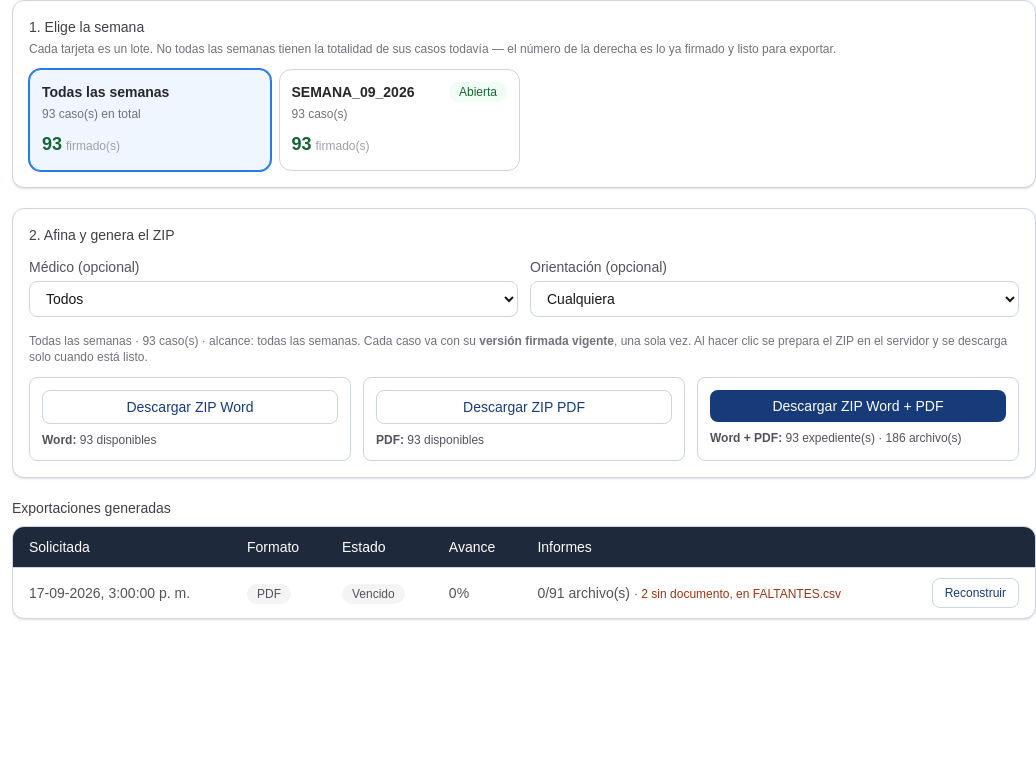
Scenario: Exportaciones · formato mixto, drift y reconstrucción › una exportación VENCIDA se puede reconstruir, y lo dice
Click the button "Reconstruir".
click(975, 593)  # box [932,578,1019,608]
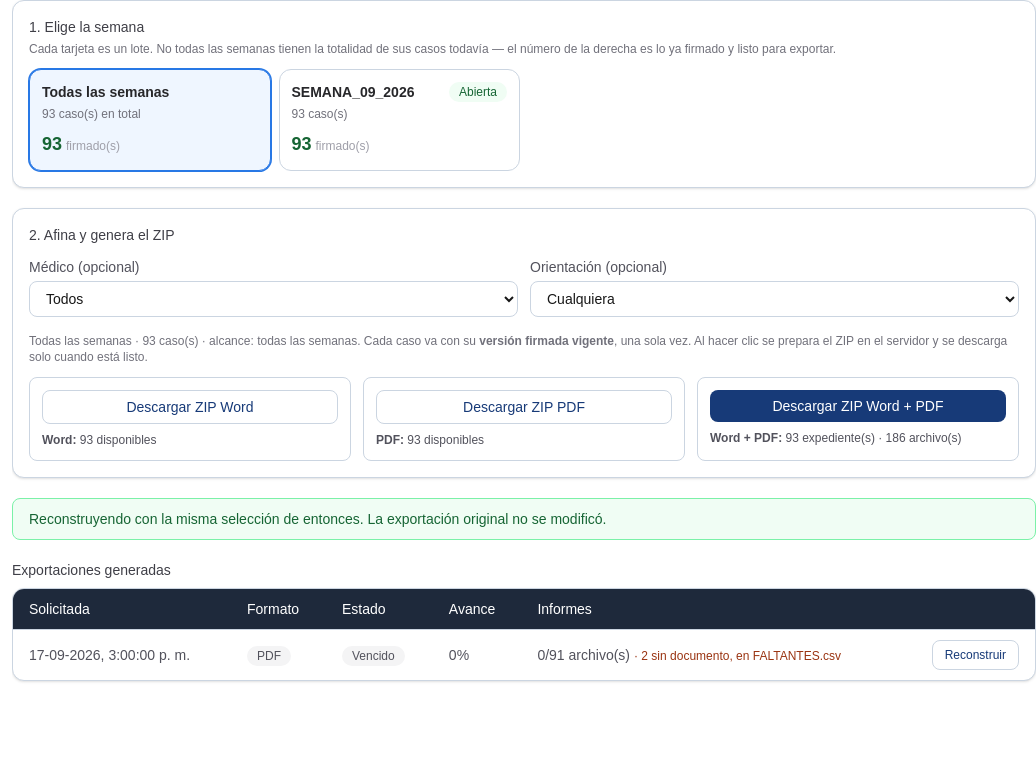
expect the text "La exportación original no se modificó" is shown: met, box [29,511,606,527]
